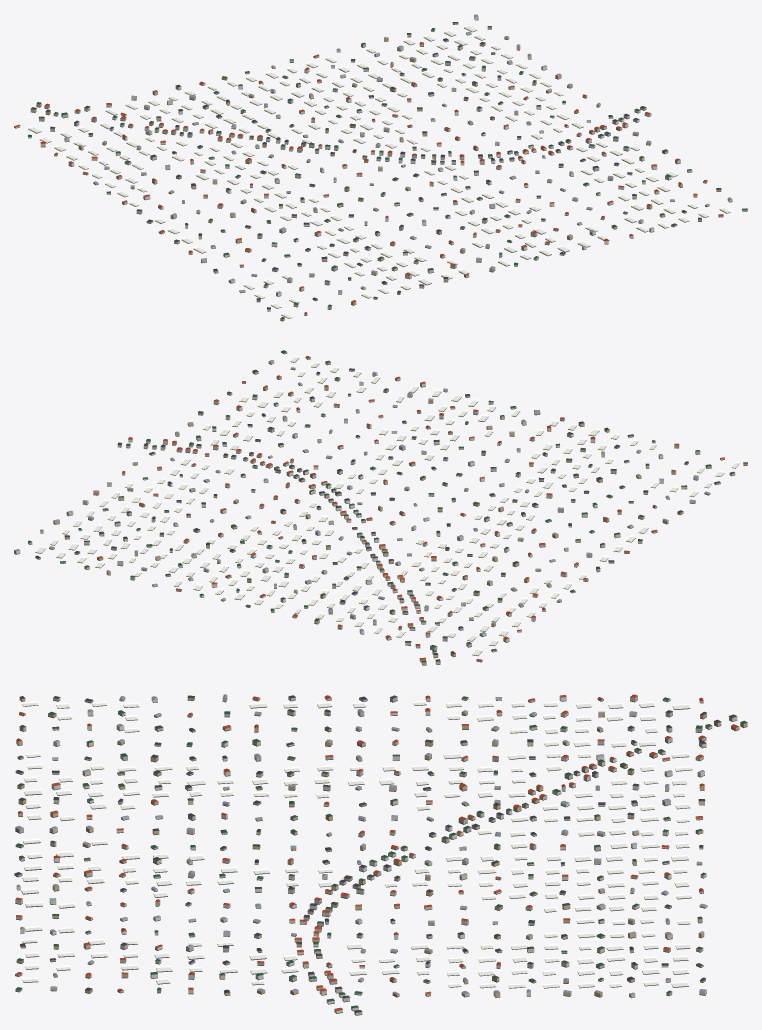
The model's file is buildings_T_E06_S04.glb.
3 views of the same model, one above another, from view 1: azimuth 30°, elevation 25°; view 2: azimuth 150°, elevation 25°; view 3: azimuth 270°, elevation 25° (orthographic). The views are drawn at different scales.
Parts seen in each view (by area): view 1: T_E06_S04_roofs_agri_greenhouse_arch, T_E06_S04_slope_seating_foundations, T_E06_S04_walls_wall_dalat_cream_stucco, T_E06_S04_walls_wall_french_ochre_villa, T_E06_S04_walls_wall_modern_warm_white, T_E06_S04_walls_wall_pastel_sand_gray, T_E06_S04_roofs_roof_terracotta_gable, T_E06_S04_roofs_roof_slate_French_villa_hip, T_E06_S04_roofs_roof_pine_green_hip, T_E06_S04_roofs_roof_zinc_silver_gable; view 2: T_E06_S04_roofs_agri_greenhouse_arch, T_E06_S04_slope_seating_foundations, T_E06_S04_walls_wall_dalat_cream_stucco, T_E06_S04_walls_wall_french_ochre_villa, T_E06_S04_walls_wall_modern_warm_white, T_E06_S04_walls_wall_pastel_sand_gray, T_E06_S04_roofs_roof_terracotta_gable, T_E06_S04_roofs_roof_slate_French_villa_hip, T_E06_S04_roofs_roof_pine_green_hip, T_E06_S04_roofs_roof_zinc_silver_gable; view 3: T_E06_S04_roofs_agri_greenhouse_arch, T_E06_S04_slope_seating_foundations, T_E06_S04_walls_wall_dalat_cream_stucco, T_E06_S04_walls_wall_french_ochre_villa, T_E06_S04_walls_wall_modern_warm_white, T_E06_S04_walls_wall_pastel_sand_gray, T_E06_S04_roofs_roof_terracotta_gable, T_E06_S04_roofs_roof_slate_French_villa_hip, T_E06_S04_roofs_roof_pine_green_hip, T_E06_S04_roofs_roof_zinc_silver_gable.
Boxes of the visible parts, x1,y1,x2,y2 form: T_E06_S04_roofs_agri_greenhouse_arch: (28, 25, 730, 318); T_E06_S04_slope_seating_foundations: (14, 19, 747, 321); T_E06_S04_walls_wall_dalat_cream_stucco: (14, 35, 732, 311); T_E06_S04_walls_wall_french_ochre_villa: (36, 23, 721, 320); T_E06_S04_walls_wall_modern_warm_white: (28, 16, 671, 296); T_E06_S04_walls_wall_pastel_sand_gray: (50, 27, 747, 309); T_E06_S04_roofs_roof_terracotta_gable: (14, 42, 723, 314); T_E06_S04_roofs_roof_slate_French_villa_hip: (31, 22, 721, 319); T_E06_S04_roofs_roof_pine_green_hip: (28, 26, 747, 306); T_E06_S04_roofs_roof_zinc_silver_gable: (64, 14, 732, 293); T_E06_S04_roofs_agri_greenhouse_arch: (35, 355, 739, 655); T_E06_S04_slope_seating_foundations: (14, 352, 747, 665); T_E06_S04_walls_wall_dalat_cream_stucco: (40, 361, 735, 664); T_E06_S04_walls_wall_french_ochre_villa: (35, 362, 747, 665); T_E06_S04_walls_wall_modern_warm_white: (14, 372, 698, 651); T_E06_S04_walls_wall_pastel_sand_gray: (28, 351, 710, 650); T_E06_S04_roofs_roof_terracotta_gable: (97, 356, 724, 660); T_E06_S04_roofs_roof_slate_French_villa_hip: (35, 368, 747, 661); T_E06_S04_roofs_roof_pine_green_hip: (28, 350, 711, 662); T_E06_S04_roofs_roof_zinc_silver_gable: (14, 360, 709, 634); T_E06_S04_roofs_agri_greenhouse_arch: (21, 700, 692, 987); T_E06_S04_slope_seating_foundations: (14, 698, 747, 1015); T_E06_S04_walls_wall_dalat_cream_stucco: (16, 696, 737, 1015); T_E06_S04_walls_wall_french_ochre_villa: (16, 697, 747, 997); T_E06_S04_walls_wall_modern_warm_white: (14, 696, 707, 1013); T_E06_S04_walls_wall_pastel_sand_gray: (15, 696, 706, 995); T_E06_S04_roofs_roof_terracotta_gable: (15, 694, 739, 1010); T_E06_S04_roofs_roof_slate_French_villa_hip: (14, 695, 736, 1012); T_E06_S04_roofs_roof_pine_green_hip: (15, 696, 747, 1008); T_E06_S04_roofs_roof_zinc_silver_gable: (15, 694, 706, 995).
Bounding box in the file's own units: 1862 × 36.96 × 1854.
